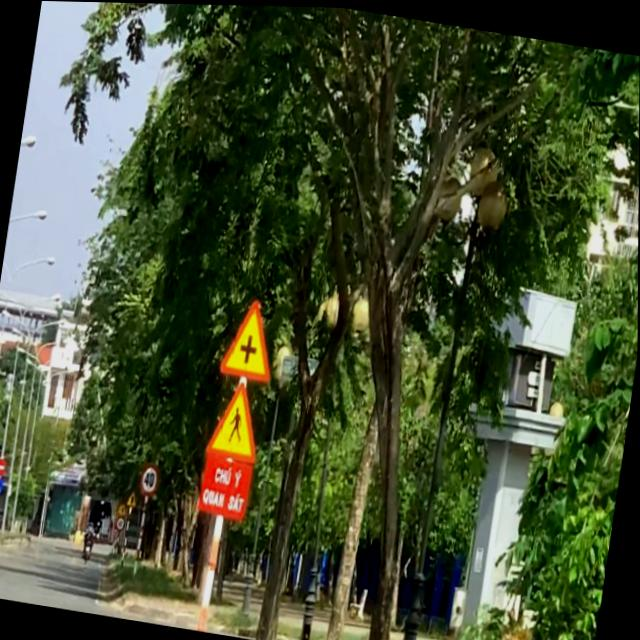Cam di nguoc chieu: (0, 457, 7, 476)
Nguoi di bo cat ngang: (204, 376, 268, 465)
Toc do toi da cho phep: (138, 459, 162, 497), (116, 515, 127, 532)
Vong chuong ngai vat sang phai: (0, 477, 4, 496)
